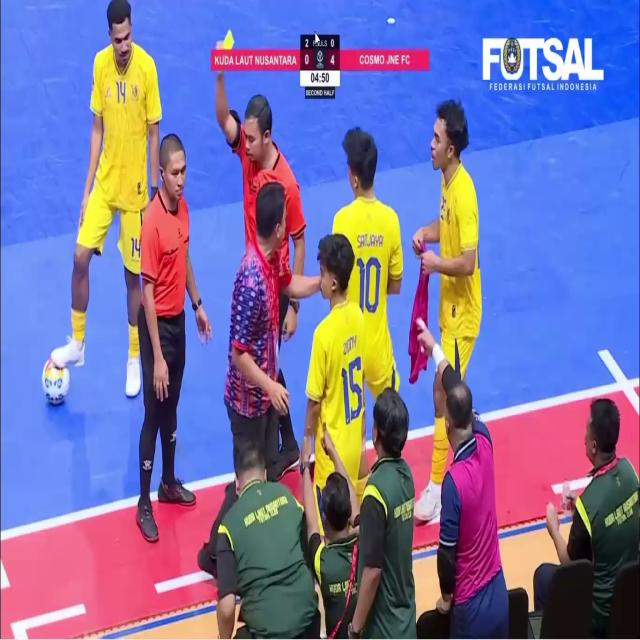official: (225, 183, 319, 480)
referee: (137, 135, 210, 542), (216, 72, 305, 274), (276, 412, 298, 475), (276, 294, 299, 345)
